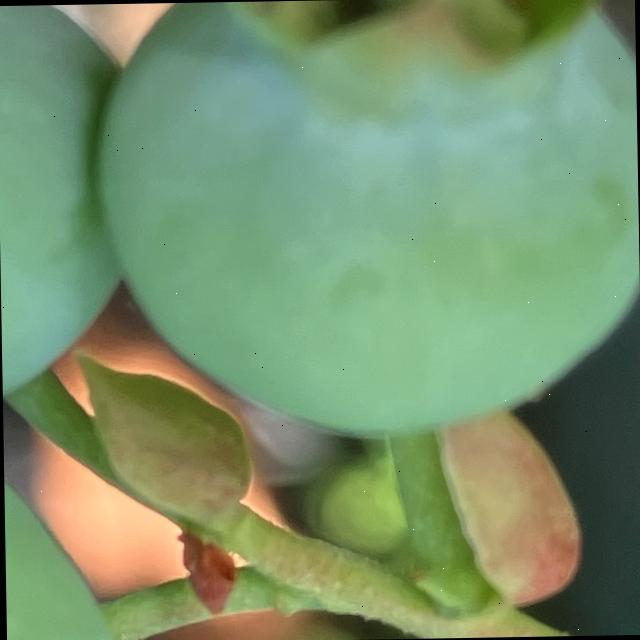Blueberries: (89, 0, 640, 442)
